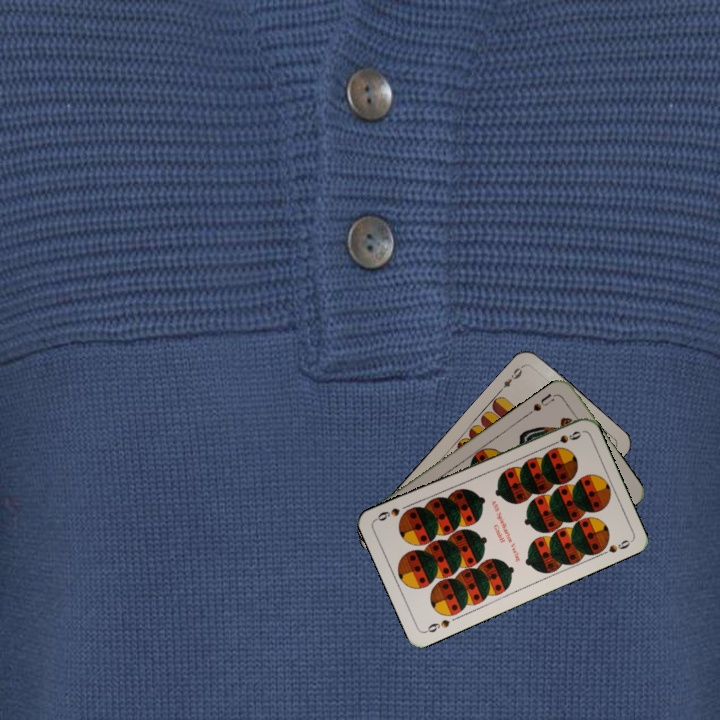E9: (495, 361, 527, 394)
S9: (545, 427, 584, 449), (421, 615, 452, 635)
SU: (523, 389, 559, 418)
